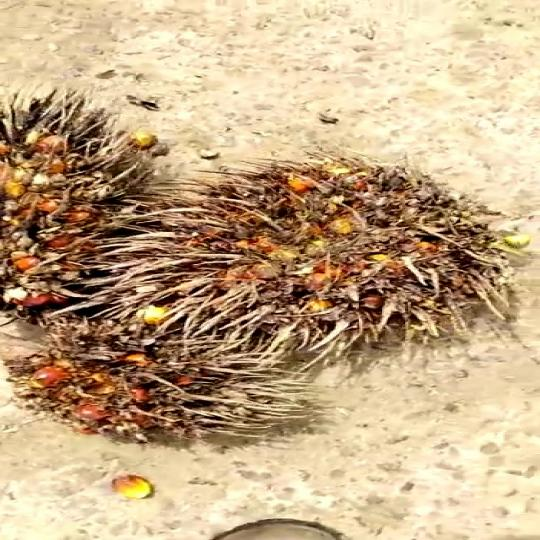terlalu masak: (131, 150, 515, 345), (0, 324, 294, 440)
